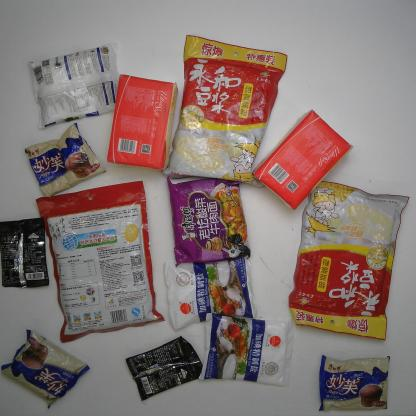Dessert: (0, 328, 90, 409), (23, 122, 106, 198), (317, 354, 391, 412)
Instant Drink: (35, 180, 166, 344), (287, 179, 410, 342), (161, 34, 288, 189), (125, 335, 203, 403), (0, 217, 50, 289)
Instant Noodles: (165, 176, 251, 267)
Seasoner: (27, 41, 121, 130), (198, 312, 293, 388), (163, 255, 259, 330)
Tissue: (252, 108, 354, 212), (106, 73, 179, 172)
